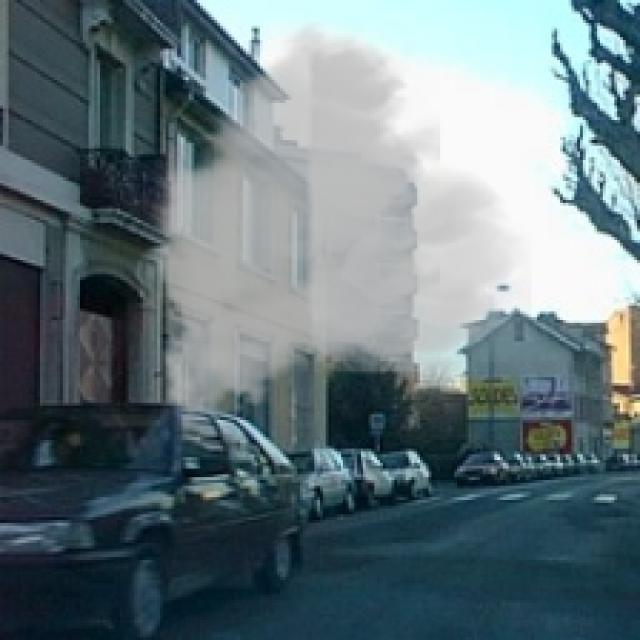Smoke: (137, 12, 532, 437)
